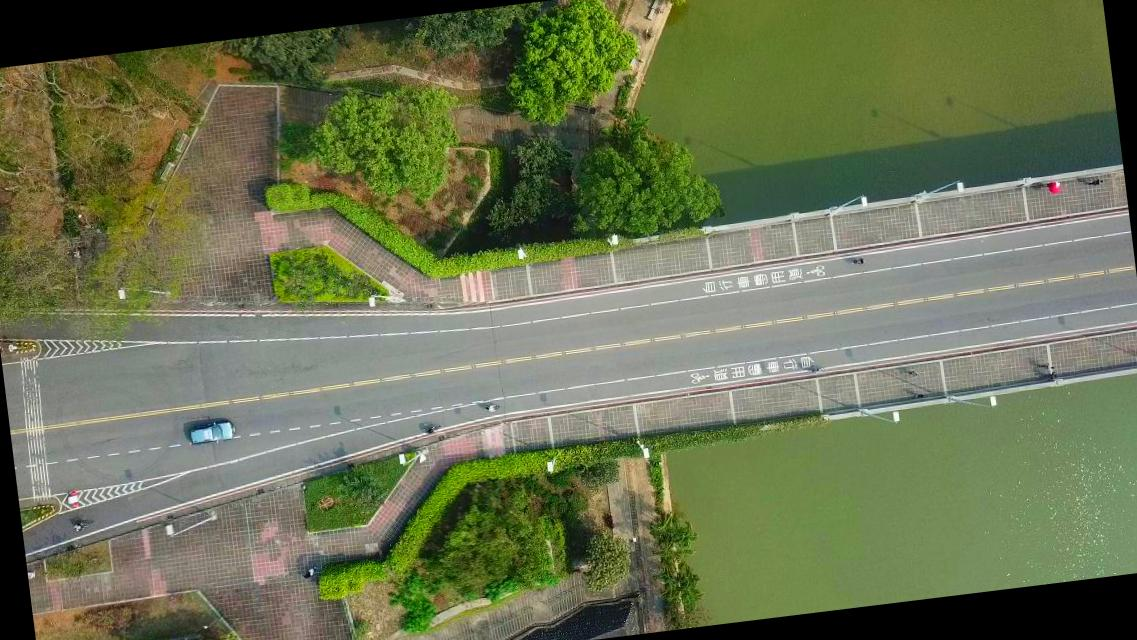vehicle: (188, 419, 235, 445)
